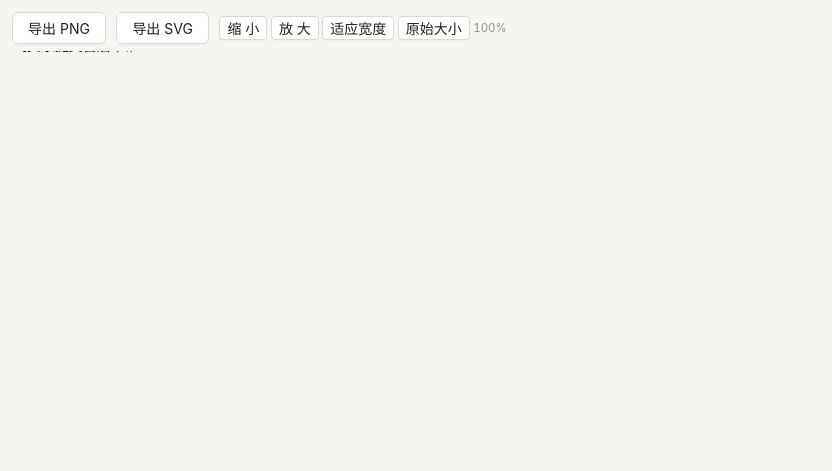
it: 导出 PNG › 没有导出成时写明原因；图太大、倍数降了时写明降到了几倍
This screenshot has width=832, height=471.
Expected: the element with test id "diagram-svg" is shown, x1=12 y1=51 x2=132 y2=111
Step 1. Click the button with test id "diagram-export" → [59, 28], box x1=12 y1=12 x2=106 y2=44
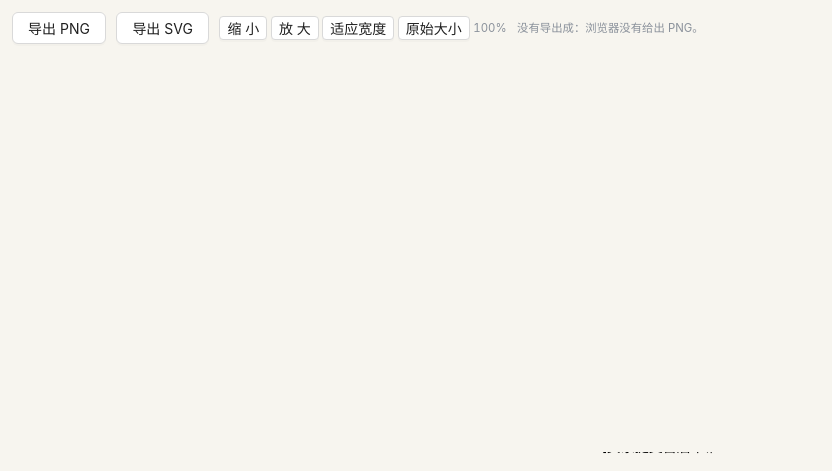
Step 2. Click the button with test id "diagram-export" → [59, 28], box x1=12 y1=12 x2=106 y2=44
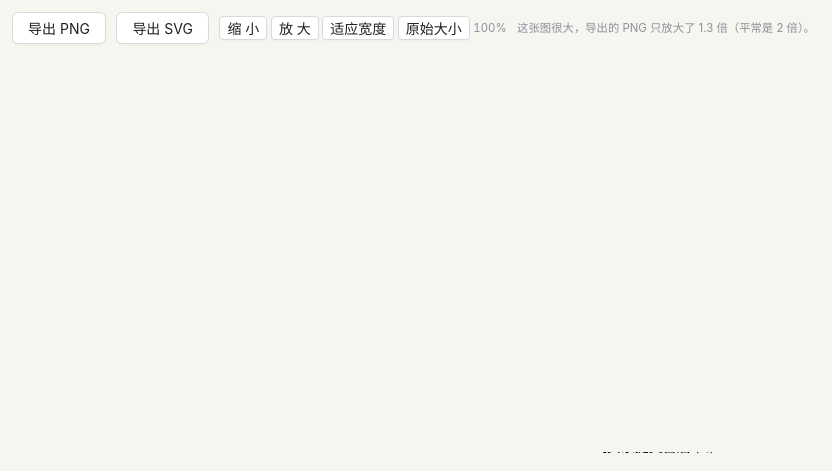
Expected: the text with test id "diagram-note" reads "这张图很大，导出的 PNG 只放大了 1.3 倍（平常是 2 倍）。", x1=517 y1=21 x2=815 y2=35
